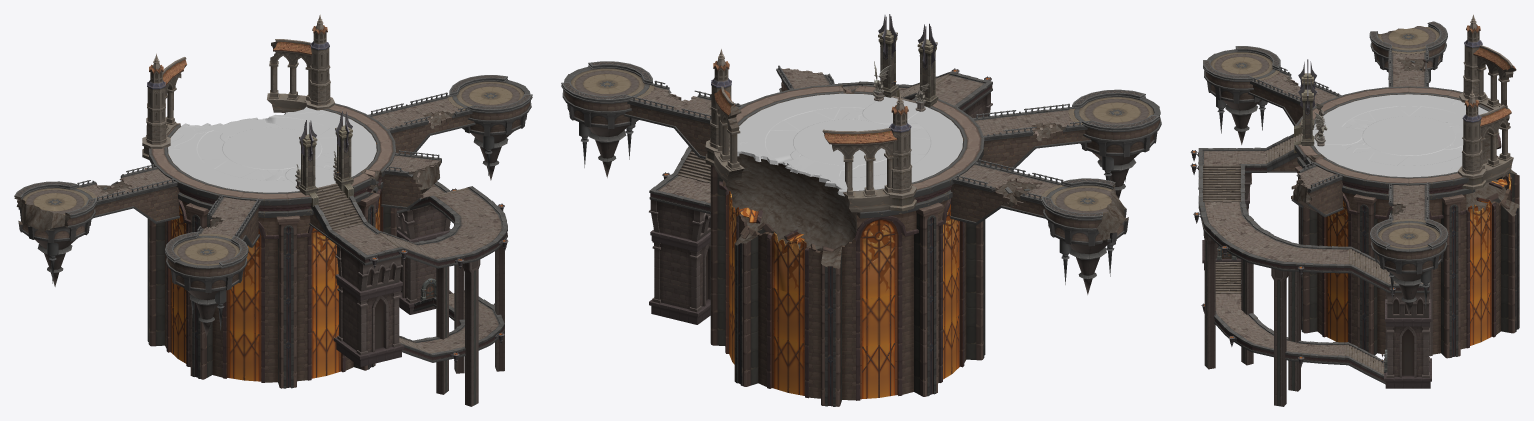
File: sc_moshenta_001.FBX
3 renders of one model, left to right at view 1: azimuth 30°, elevation 25°; view 2: azimuth 150°, elevation 25°; view 3: azimuth 270°, elevation 25°, orthographic. The views are drawn at different scales.
Visible parts, largest first — view 1: sc_fuben_003_007, sc_fuben_001_001 (×2), sc_fuben_002_002, sc_fuben_001_007 (×2), sc_fuben_001_002, sc_fuben_001_004, 对象056, sc_fuben_003_003, sc_fuben_001_003, sc_fuben_003_004, sc_fuben_003_002 (×2), 对象057 (+2 smaller); view 2: sc_fuben_003_007, sc_fuben_001_001 (×2), sc_fuben_002_002, sc_fuben_001_002, sc_fuben_001_007, sc_fuben_003_004, sc_fuben_001_004, sc_fuben_003_003, sc_fuben_003_002 (×2), sc_fuben_001_003, sc_fuben_001_005; view 3: sc_fuben_003_007, sc_fuben_001_001 (×2), sc_fuben_002_002, sc_fuben_001_004, 对象056, sc_fuben_001_005 (×4), sc_fuben_001_007 (×2), sc_fuben_001_002, 对象057, sc_fuben_003_003, sc_fuben_003_004, sc_fuben_001_003 (+3 smaller).
Boxes of the visible parts, box(x1,y1,x2,y2) form: sc_fuben_003_007: box(144, 103, 396, 388); sc_fuben_001_001 (×2): box(165, 75, 532, 336); sc_fuben_002_002: box(168, 106, 376, 192); sc_fuben_001_007 (×2): box(334, 205, 452, 366); sc_fuben_001_002: box(14, 164, 179, 286); sc_fuben_001_004: box(328, 181, 507, 268); 对象056: box(436, 224, 504, 406); sc_fuben_003_003: box(267, 14, 334, 112); sc_fuben_001_003: box(381, 150, 441, 209); sc_fuben_003_004: box(142, 53, 186, 159); sc_fuben_003_002 (×2): box(298, 111, 353, 206); 对象057: box(413, 290, 504, 362); sc_fuben_003_007: box(710, 84, 988, 406); sc_fuben_001_001 (×2): box(561, 61, 1161, 198); sc_fuben_002_002: box(737, 93, 962, 196); sc_fuben_001_002: box(950, 159, 1128, 294); sc_fuben_001_007: box(649, 200, 710, 324); sc_fuben_003_004: box(822, 93, 916, 212); sc_fuben_001_004: box(649, 71, 992, 214); sc_fuben_003_003: box(705, 49, 744, 182); sc_fuben_003_002 (×2): box(878, 14, 938, 106); sc_fuben_001_003: box(776, 65, 834, 91); sc_fuben_001_005: box(673, 146, 710, 183); sc_fuben_003_007: box(1295, 86, 1519, 358); sc_fuben_001_001 (×2): box(1203, 46, 1448, 315); sc_fuben_002_002: box(1312, 94, 1488, 177); sc_fuben_001_004: box(1198, 147, 1429, 292); 对象056: box(1203, 231, 1300, 406); sc_fuben_001_005 (×4): box(1198, 165, 1389, 384); sc_fuben_001_007 (×2): box(1202, 173, 1431, 388); sc_fuben_001_002: box(1369, 21, 1447, 86); 对象057: box(1214, 293, 1348, 365); sc_fuben_003_003: box(1458, 89, 1513, 189); sc_fuben_003_004: box(1459, 14, 1516, 120); sc_fuben_001_003: box(1291, 162, 1343, 217).
Size of the model in its own units: 124 by 70.41 by 74.89.
